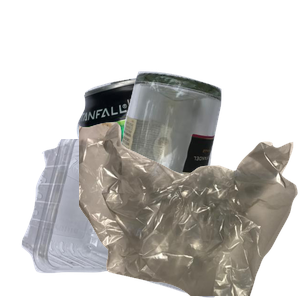glass: (109, 69, 300, 249)
metal: (74, 74, 257, 254)
plastic: (19, 139, 249, 300)
trash: (79, 120, 300, 300)
